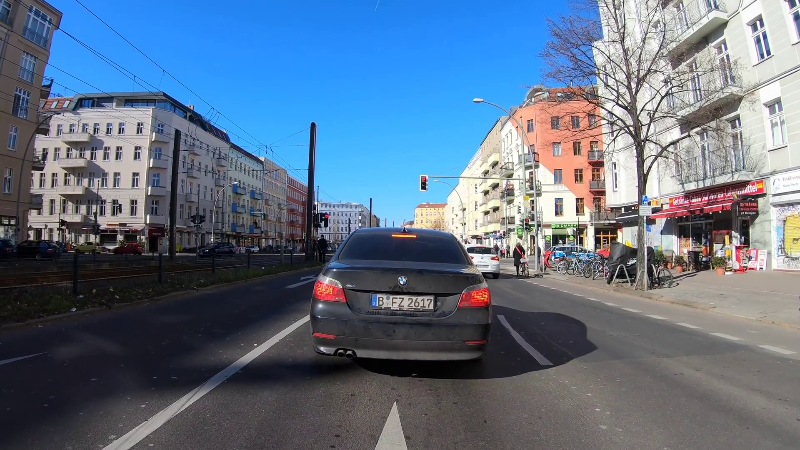Plate: (370, 293, 436, 310)
